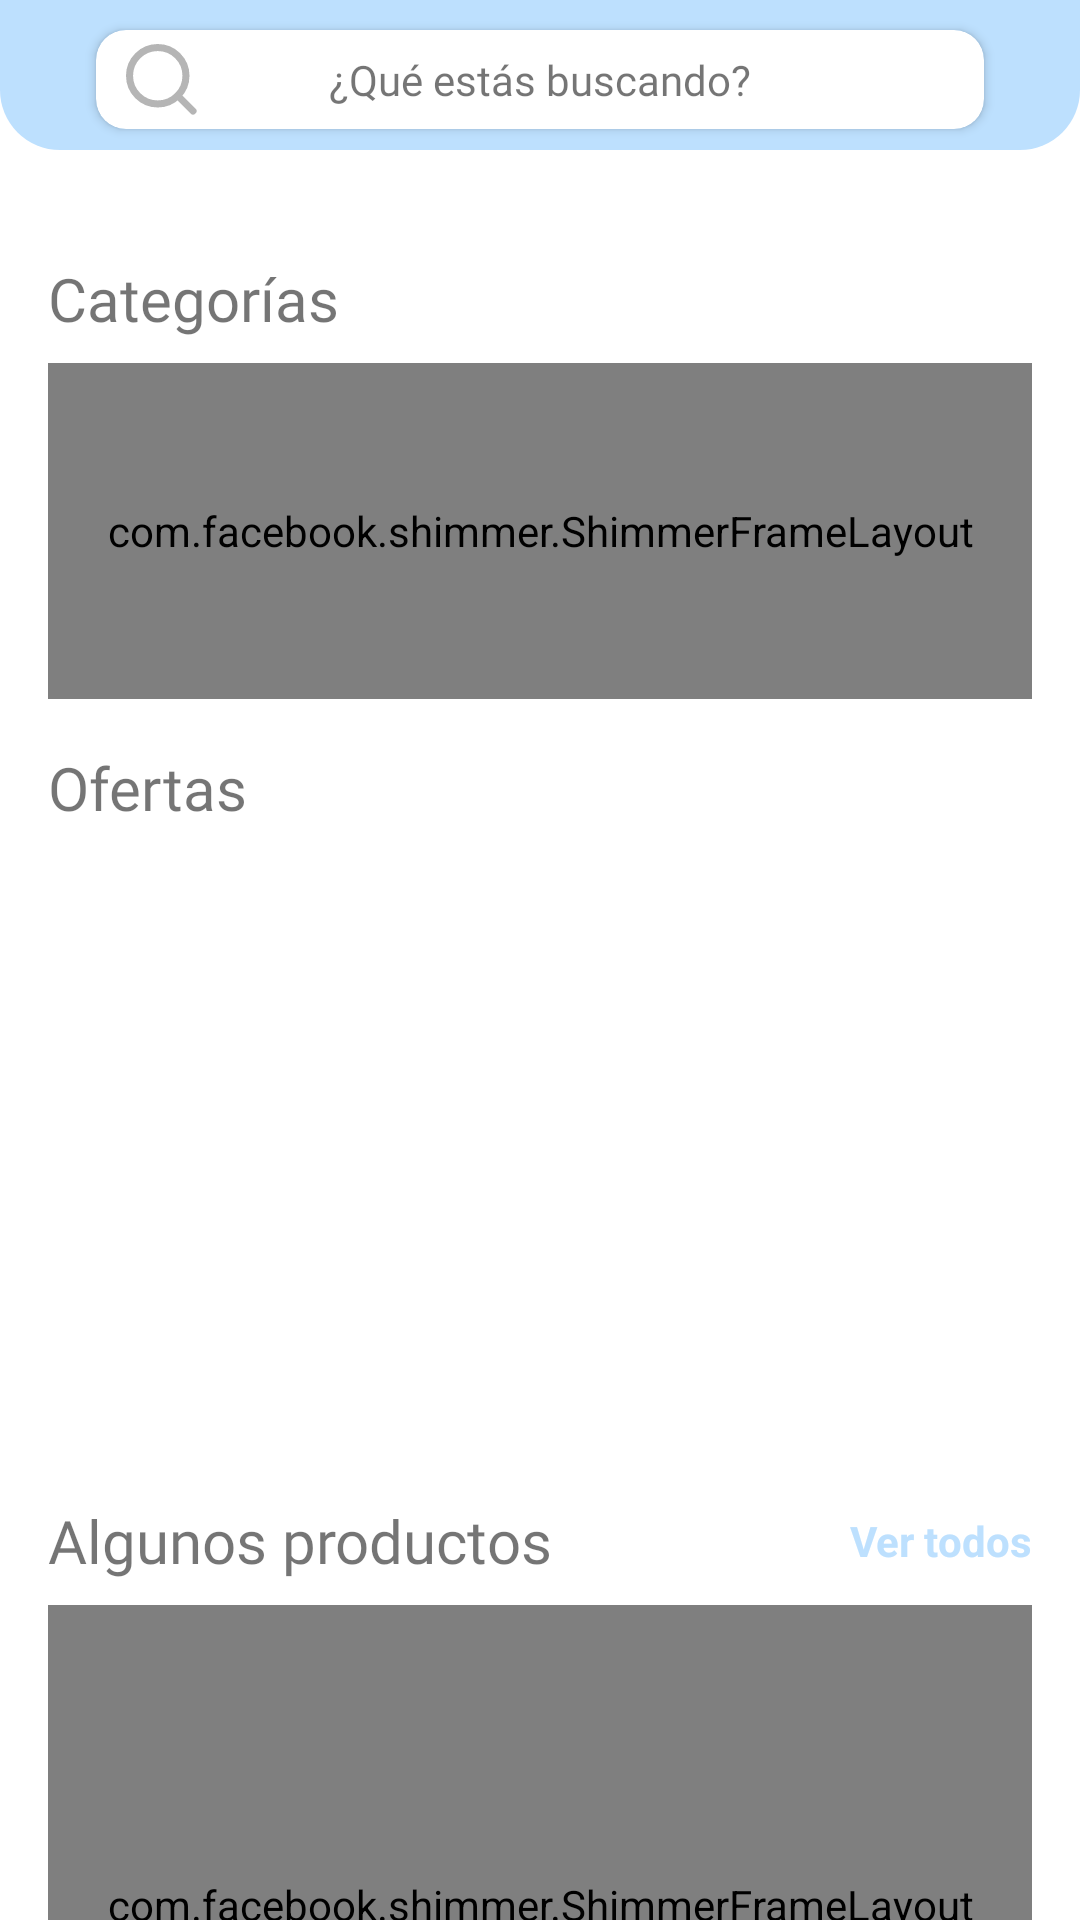

Screen size 1080x1920. Icon name, then its box in pixels as {"left": x1, "top": y1, "right": x2, "bottom": y2}:
search: {"left": 126, "top": 44, "right": 197, "bottom": 115}
